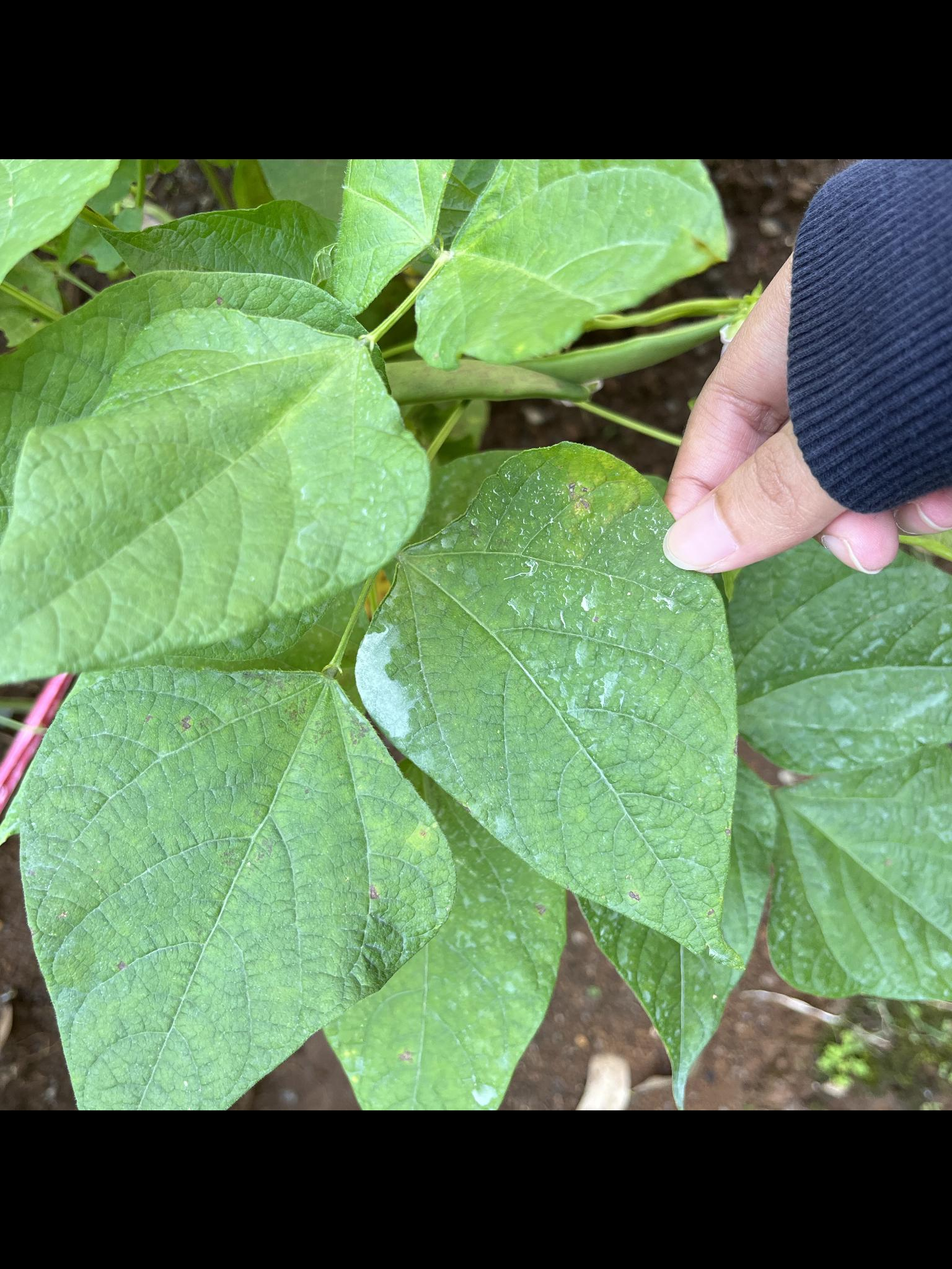embun tepung: (349, 617, 422, 756)
